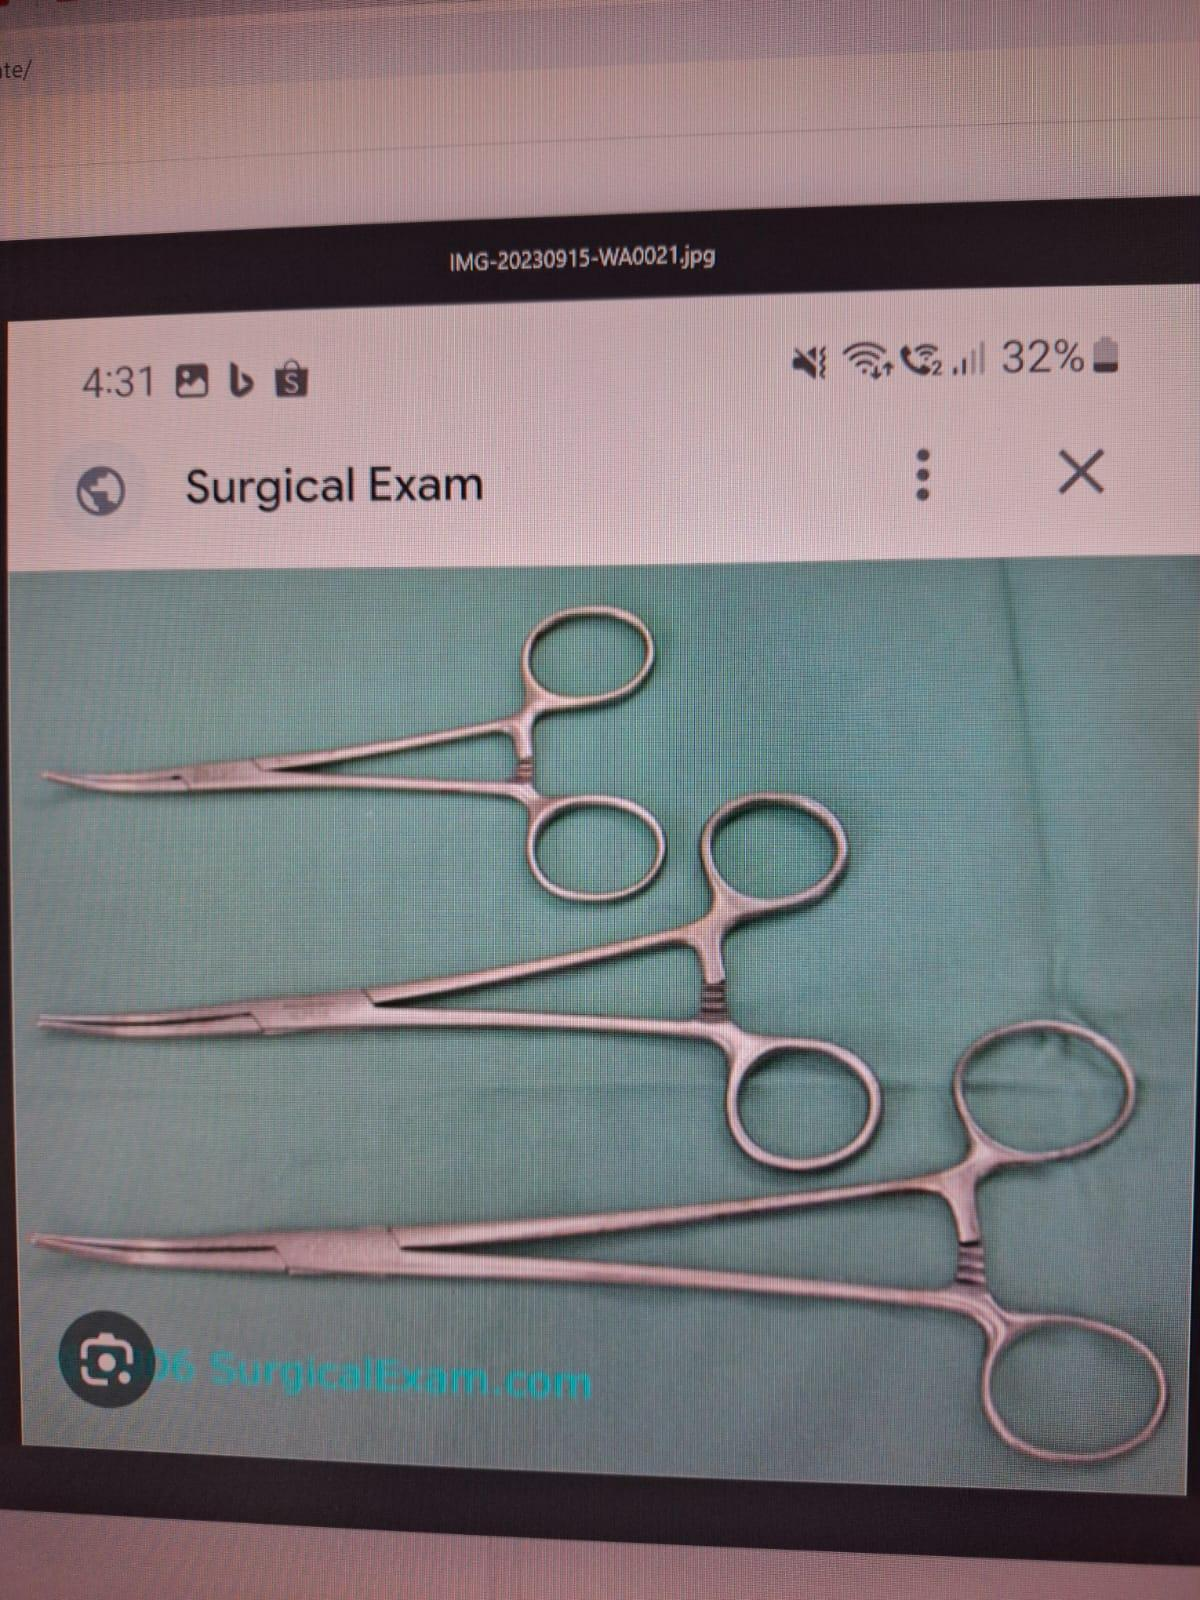Artery Forceps: (32, 1010, 1182, 1490), (25, 778, 880, 1190), (40, 598, 680, 908)
